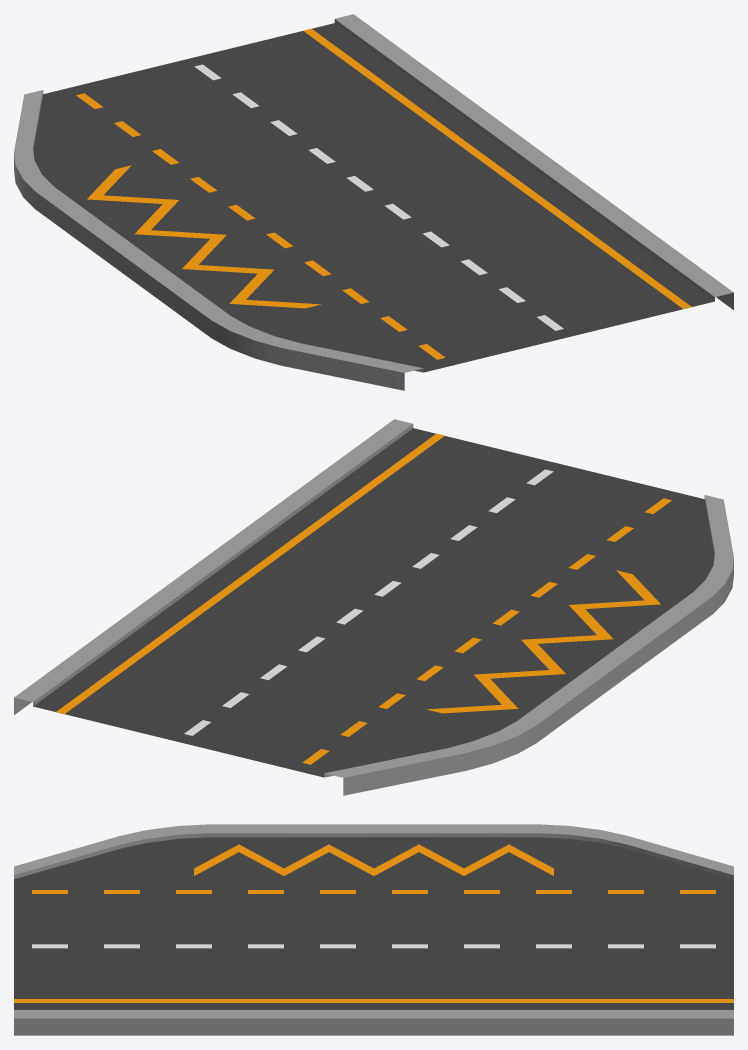
The model's file is Road_A_4.glb.
3 renders of one model, top to bottom at view 1: azimuth 30°, elevation 25°; view 2: azimuth 150°, elevation 25°; view 3: azimuth 270°, elevation 25°, orthographic. The views are drawn at different scales.
Parts seen in each view (by area): view 1: Road_A_4; view 2: Road_A_4; view 3: Road_A_4.
Boxes of the visible parts, x1,y1,x2,y2 form: Road_A_4: (14,14,733,390); Road_A_4: (14,419,733,795); Road_A_4: (14,824,733,1035).
Size of the model in its own units: 10.21 by 0.4148 by 16.
1 material, 1 textured.
